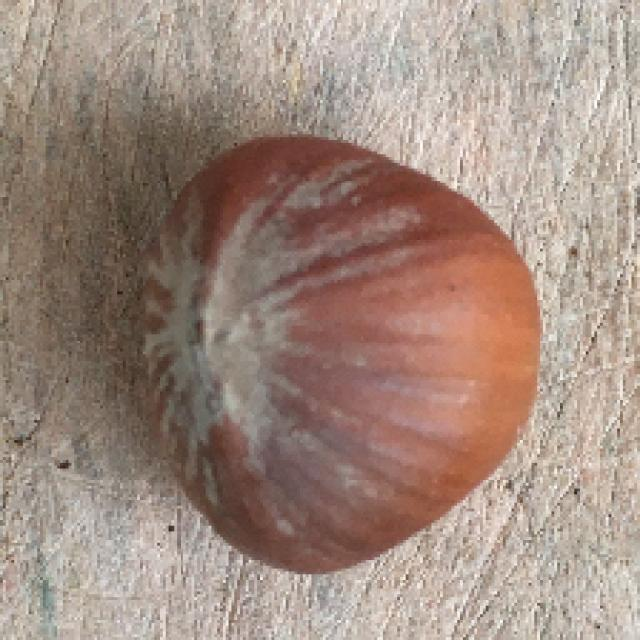damagedHazelnut: (124, 128, 545, 575)
